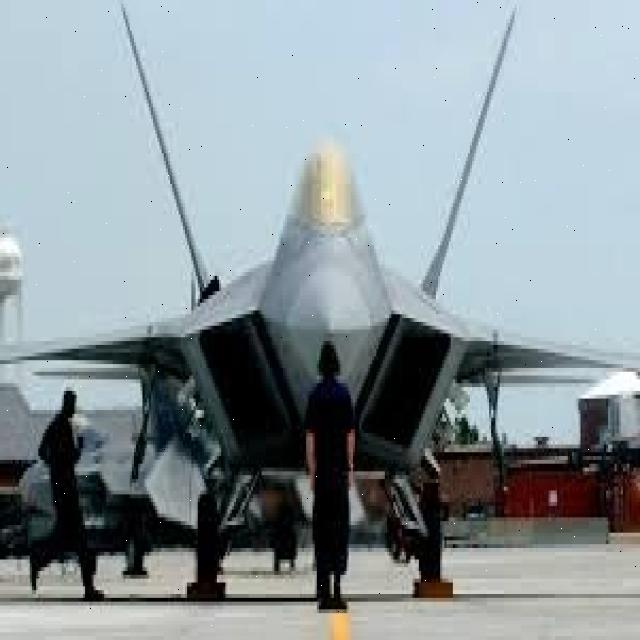F22: (5, 9, 636, 539)
